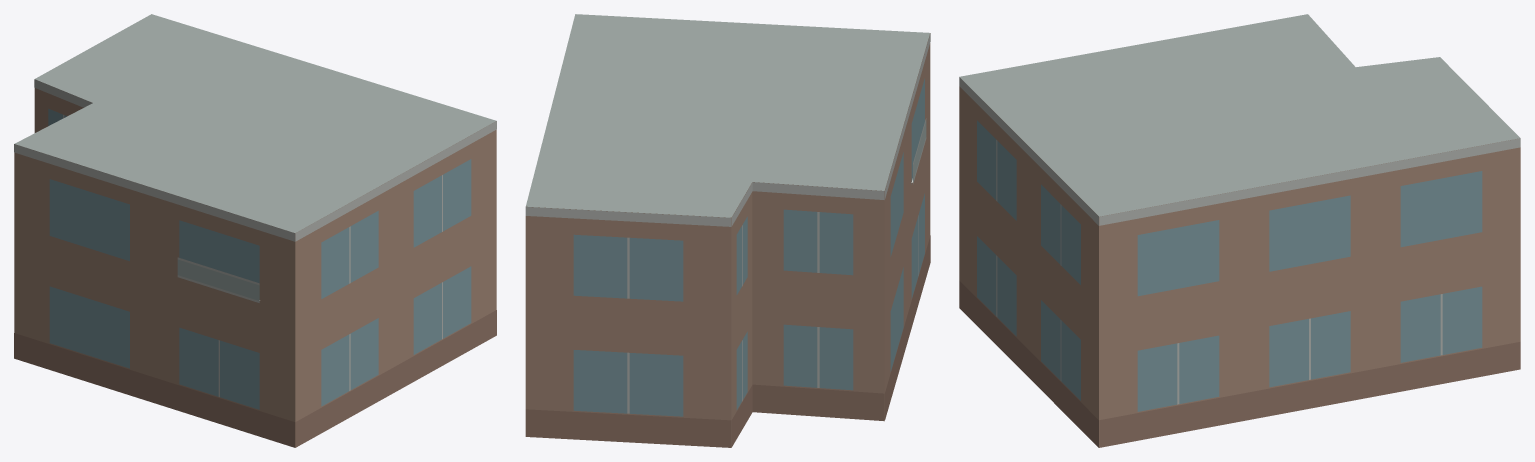
File: survey-upis-32496795.glb
3 renders of one model, left to right at view 1: azimuth 30°, elevation 25°; view 2: azimuth 150°, elevation 25°; view 3: azimuth 270°, elevation 25°, orthographic. The views are drawn at different scales.
Visible parts, largest first — view 1: survey-upis-32496795.tmp; view 2: survey-upis-32496795.tmp; view 3: survey-upis-32496795.tmp.
Boxes of the visible parts, x1=… form: survey-upis-32496795.tmp: x1=14, y1=14, x2=496, y2=447; survey-upis-32496795.tmp: x1=525, y1=14, x2=930, y2=447; survey-upis-32496795.tmp: x1=959, y1=14, x2=1520, y2=447.
Bounding box in the file's own units: 11.48 × 6.1 × 13.43.
